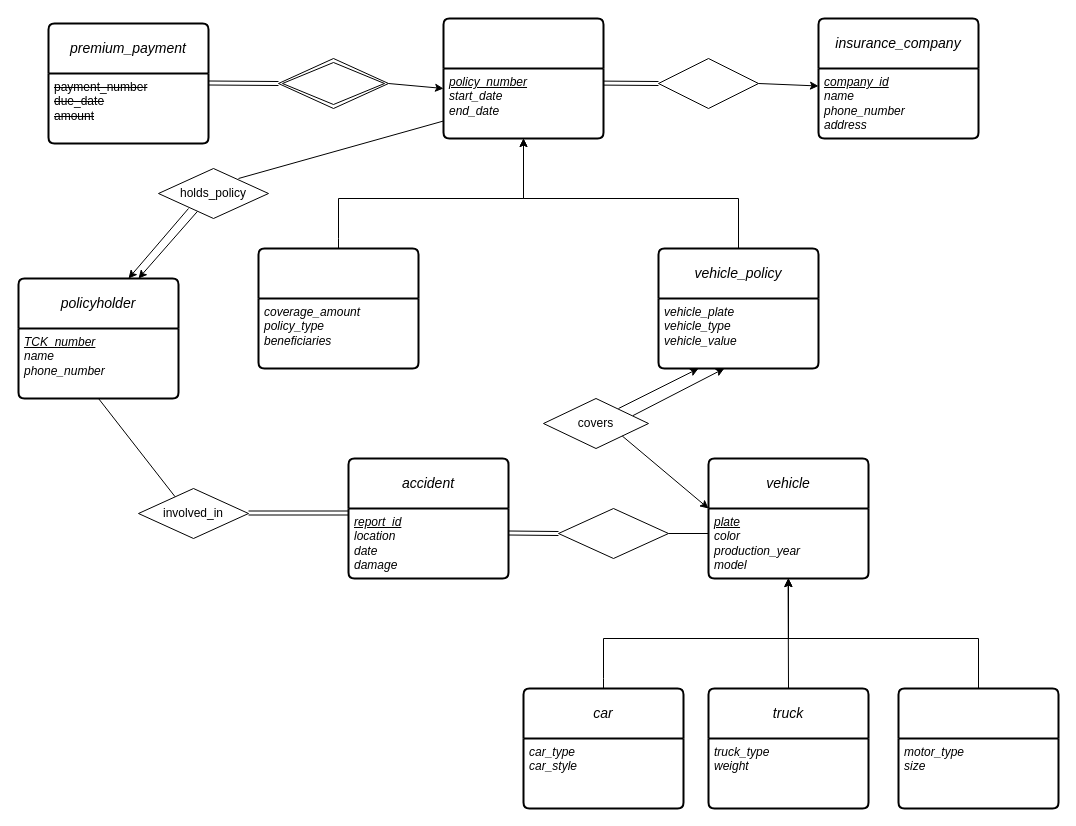
The diagram is 1076 pixels wide and 826 high, and some of its shapes have lost their labels. The shapes that lost their labels are listed below. From the top down, each one's box as (x1, y1, x2, y2) in pixels, then its label:
(278, 58, 388, 108): has_payments
(442, 17, 604, 139): insurance_policy
(658, 58, 758, 108): issued_by
(257, 247, 419, 369): life_policy
(558, 508, 668, 558): involves
(897, 687, 1059, 809): motorcycle
